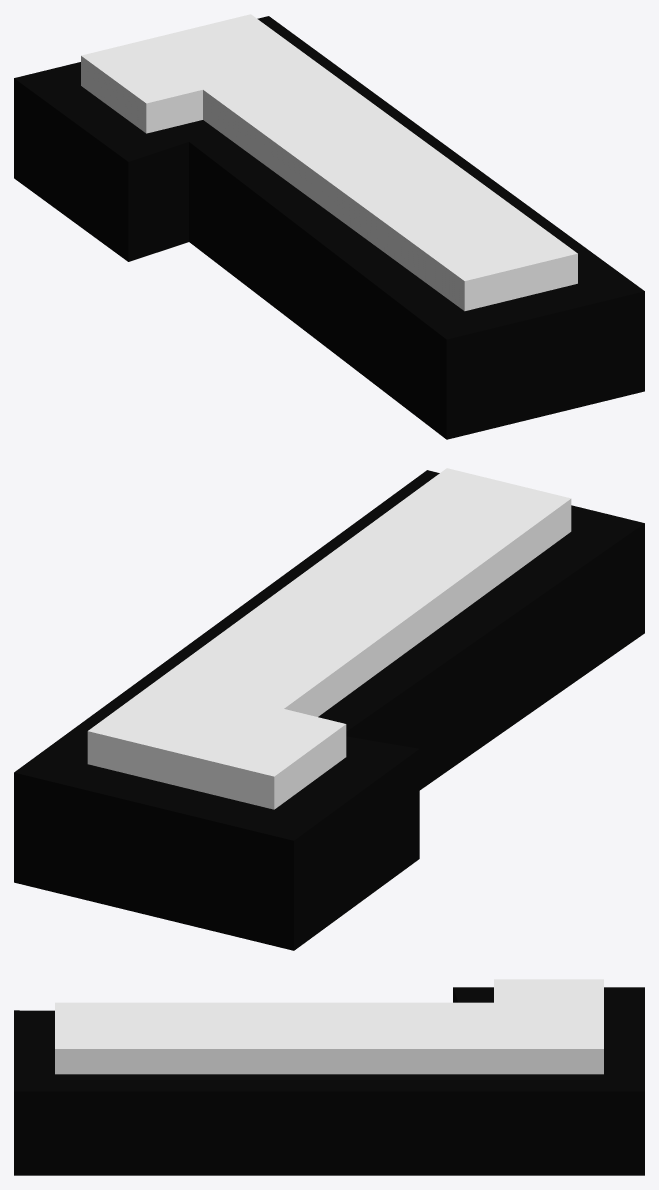
The model's file is txt_1.glb.
3 views of the same model, one above another, from view 1: azimuth 30°, elevation 25°; view 2: azimuth 150°, elevation 25°; view 3: azimuth 270°, elevation 25° (orthographic). The views are drawn at different scales.
Visible parts, largest first — view 1: 1.001; view 2: 1.001; view 3: 1.001.
Part boxes in pixels (x1,y1,x2,y2): 1.001: [14, 14, 644, 439]; 1.001: [14, 468, 644, 950]; 1.001: [14, 979, 644, 1175].
Size of the model in its own units: 0.405 by 0.1978 by 1.04.
1 material, 1 textured.
